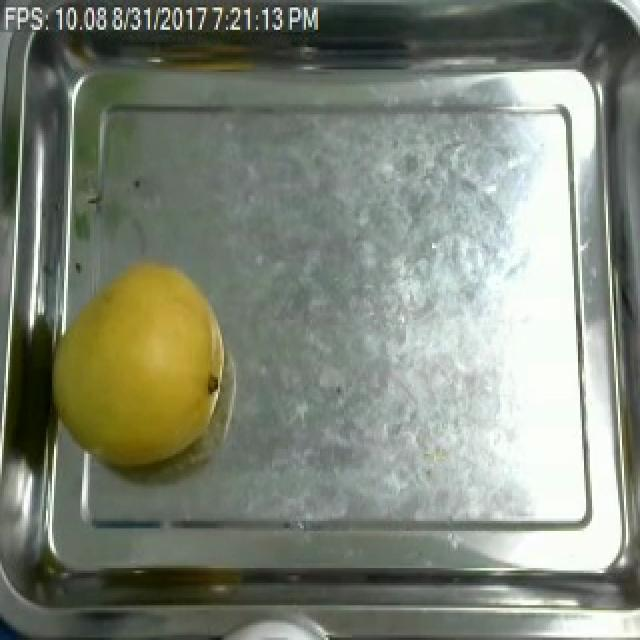fruit: (40, 243, 236, 481)
